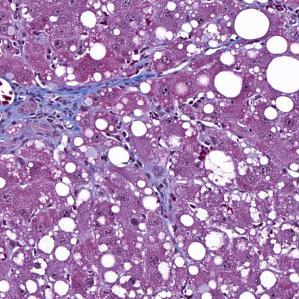fibrosis: (15, 65, 142, 149)
